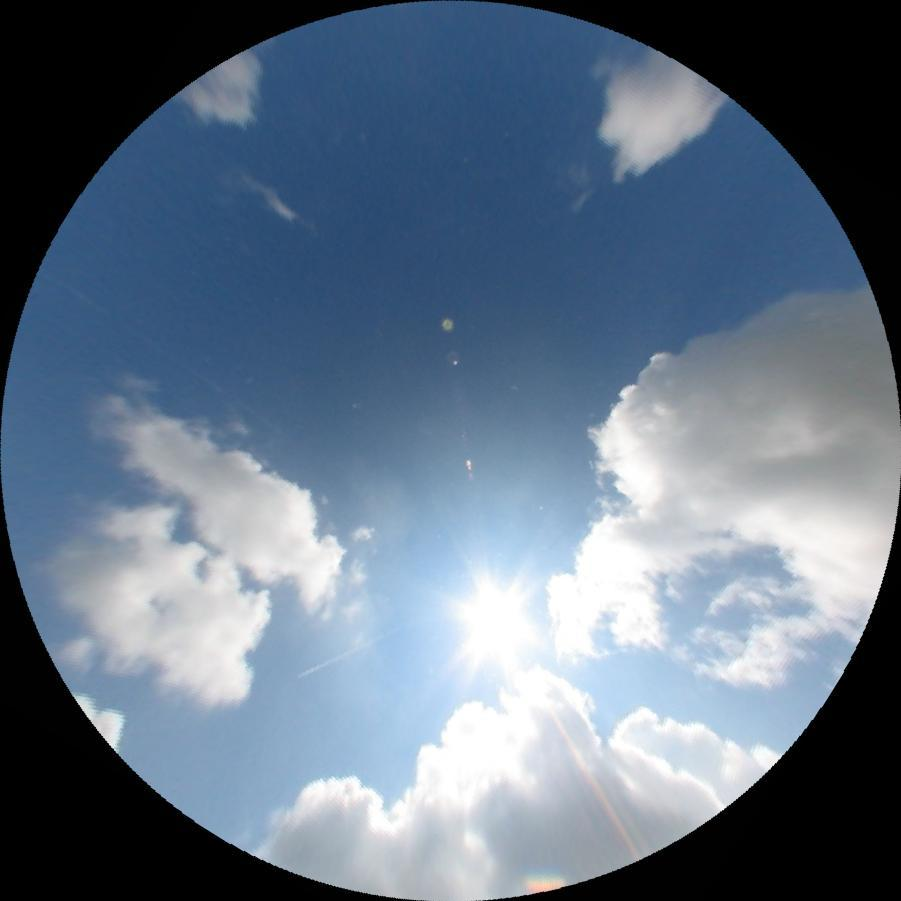contrail young: (295, 613, 420, 679), (593, 645, 637, 658)
sun: (452, 576, 536, 666)
